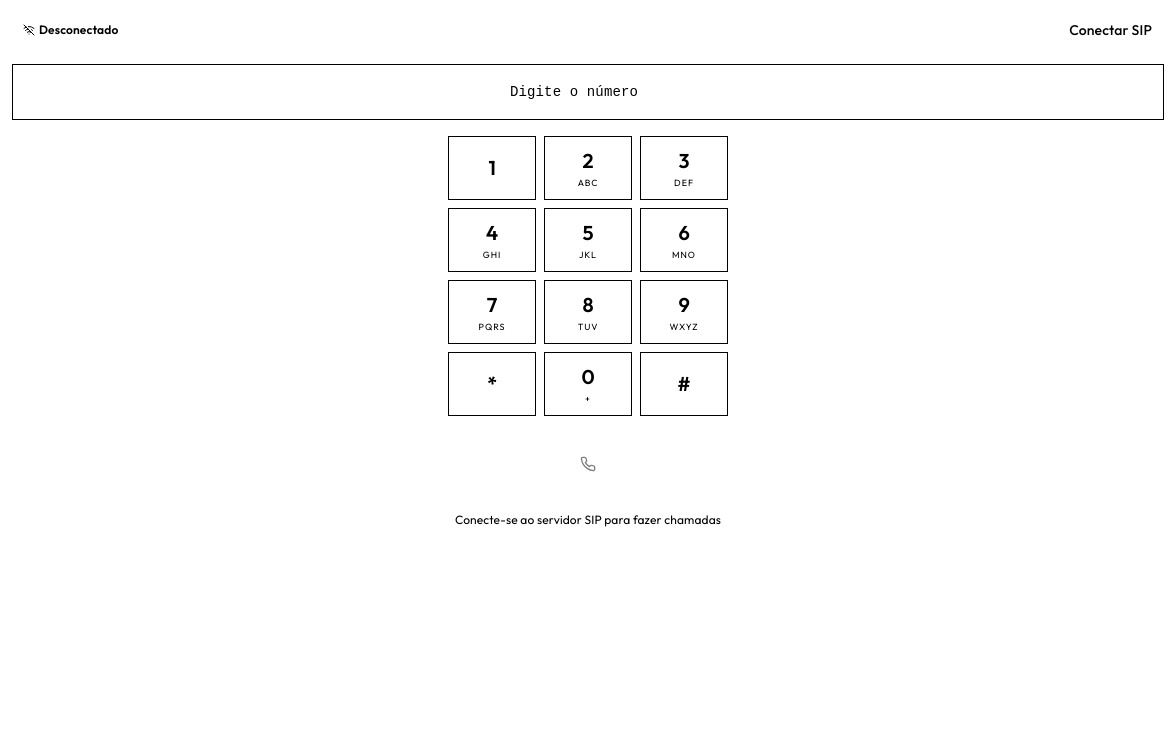
DialPad › shows delete button when input has value
Click the button "1".
click(492, 168)  # box x1=448 y1=136 x2=536 y2=200
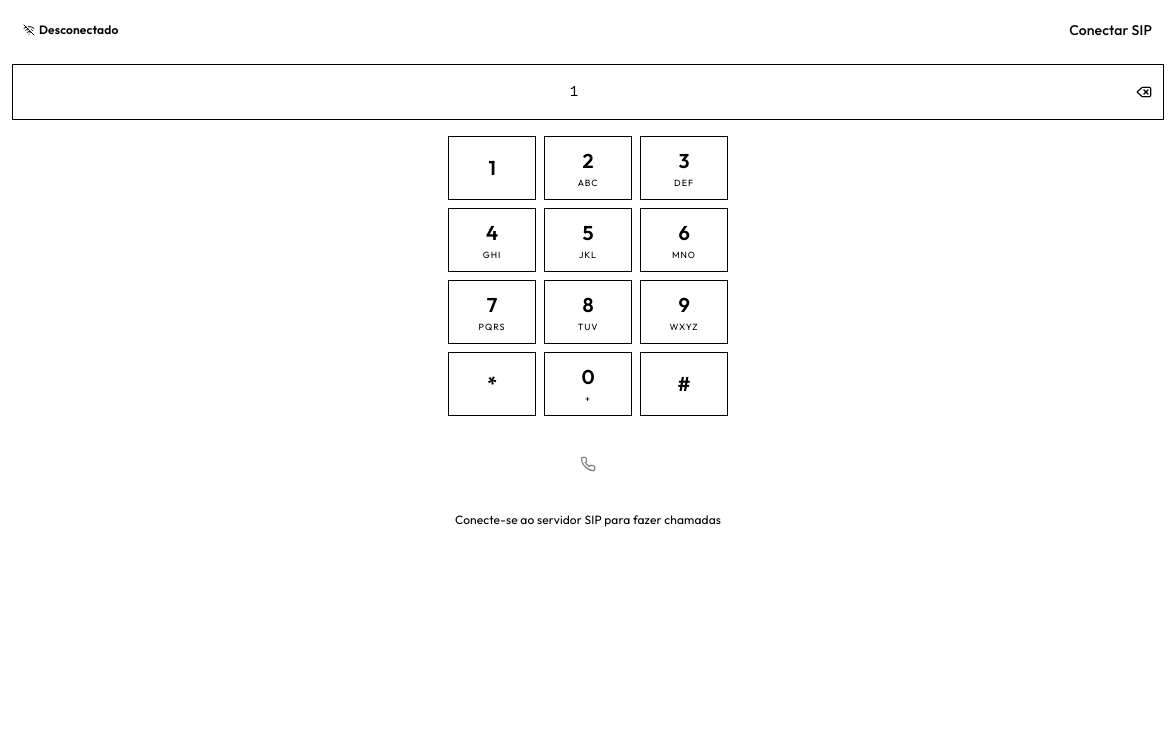
Check: the field with placeholder "Digite o número" holds "1", box x1=12 y1=64 x2=1164 y2=120
